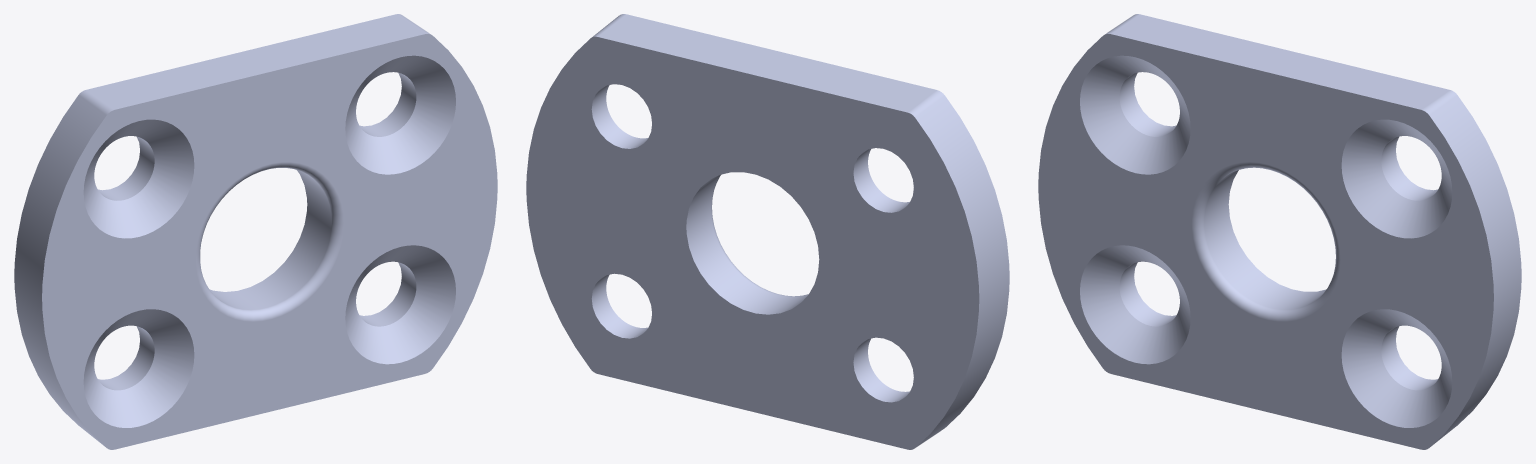
Rendered from step-3.glb.
The picture shows the model from 3 angles, left to right: view 1: azimuth 30°, elevation 25°; view 2: azimuth 150°, elevation 25°; view 3: azimuth 330°, elevation 25°; orthographic projection.
Visible parts, largest first — view 1: 20250522dutydetentC4213-2; view 2: 20250522dutydetentC4213-2; view 3: 20250522dutydetentC4213-2.
Part boxes in pixels (<box>): 20250522dutydetentC4213-2: <box>14,14,497,449</box>; 20250522dutydetentC4213-2: <box>526,14,1009,449</box>; 20250522dutydetentC4213-2: <box>1038,14,1521,449</box>.
Size of the model in its own units: 0.0462 by 0.0329 by 0.0051.
